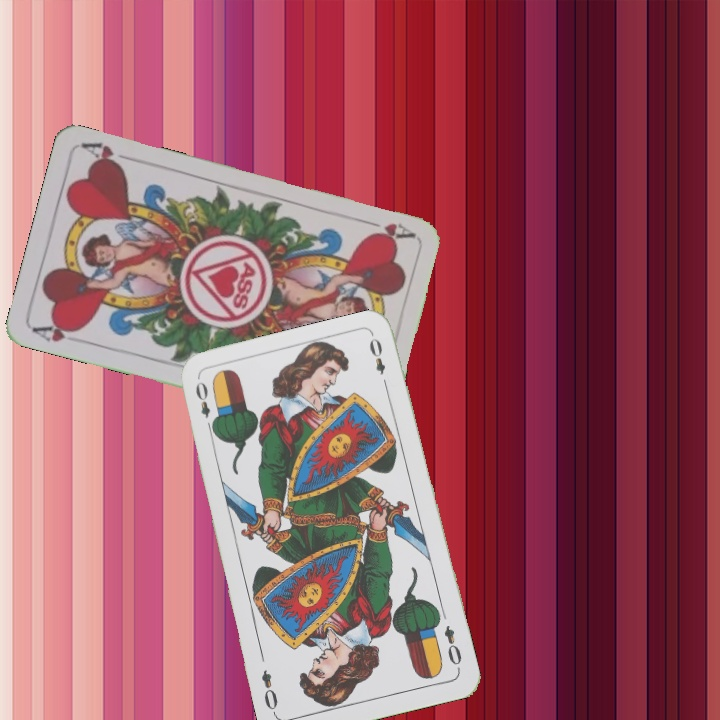EO: (191, 377, 218, 435), (440, 621, 464, 673)
HA: (358, 215, 417, 245), (29, 318, 85, 345)
